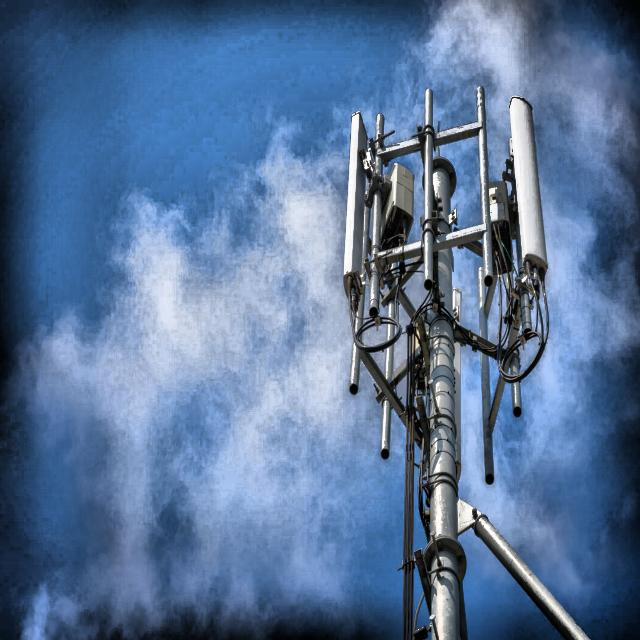antenna: (509, 97, 547, 273), (343, 112, 367, 310), (454, 341, 461, 479)
